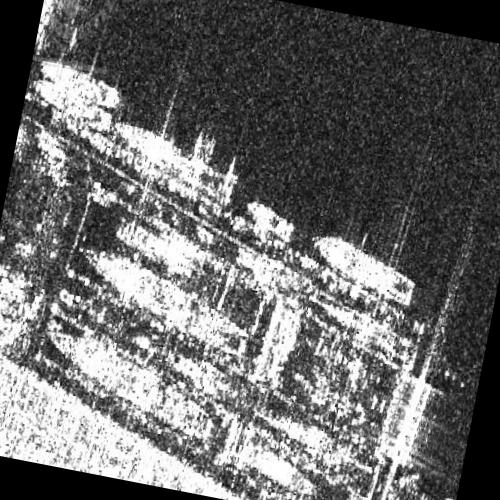ship: (81, 248, 249, 362), (48, 330, 214, 442), (117, 123, 237, 206), (314, 235, 416, 307), (38, 58, 120, 109), (35, 81, 114, 133), (247, 200, 294, 245)
